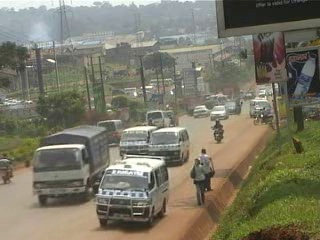Car: (208, 103, 230, 121), (224, 98, 242, 115), (164, 108, 180, 126), (190, 103, 208, 119), (242, 91, 255, 103)
Motorcycle: (251, 110, 276, 124), (210, 122, 225, 144), (1, 166, 11, 186)
